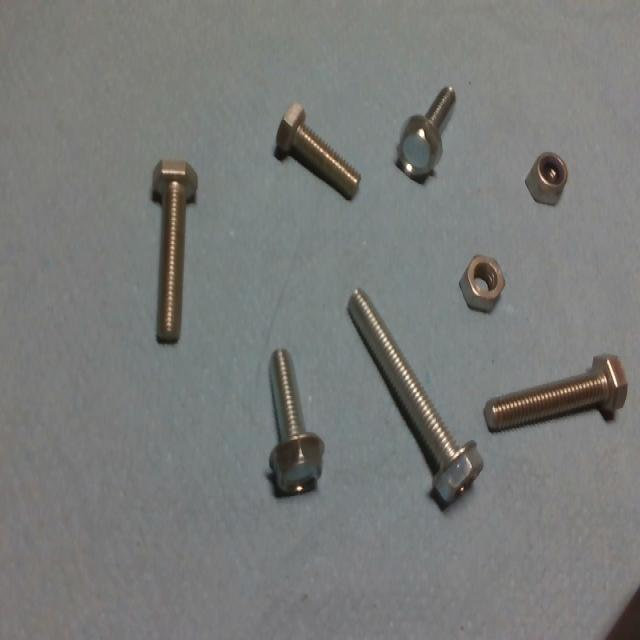Bolt: (340, 279, 487, 505), (481, 348, 626, 437), (140, 150, 203, 352), (262, 340, 326, 500), (272, 100, 364, 207), (387, 82, 460, 182)
Nut: (453, 248, 509, 316), (526, 148, 578, 210)
